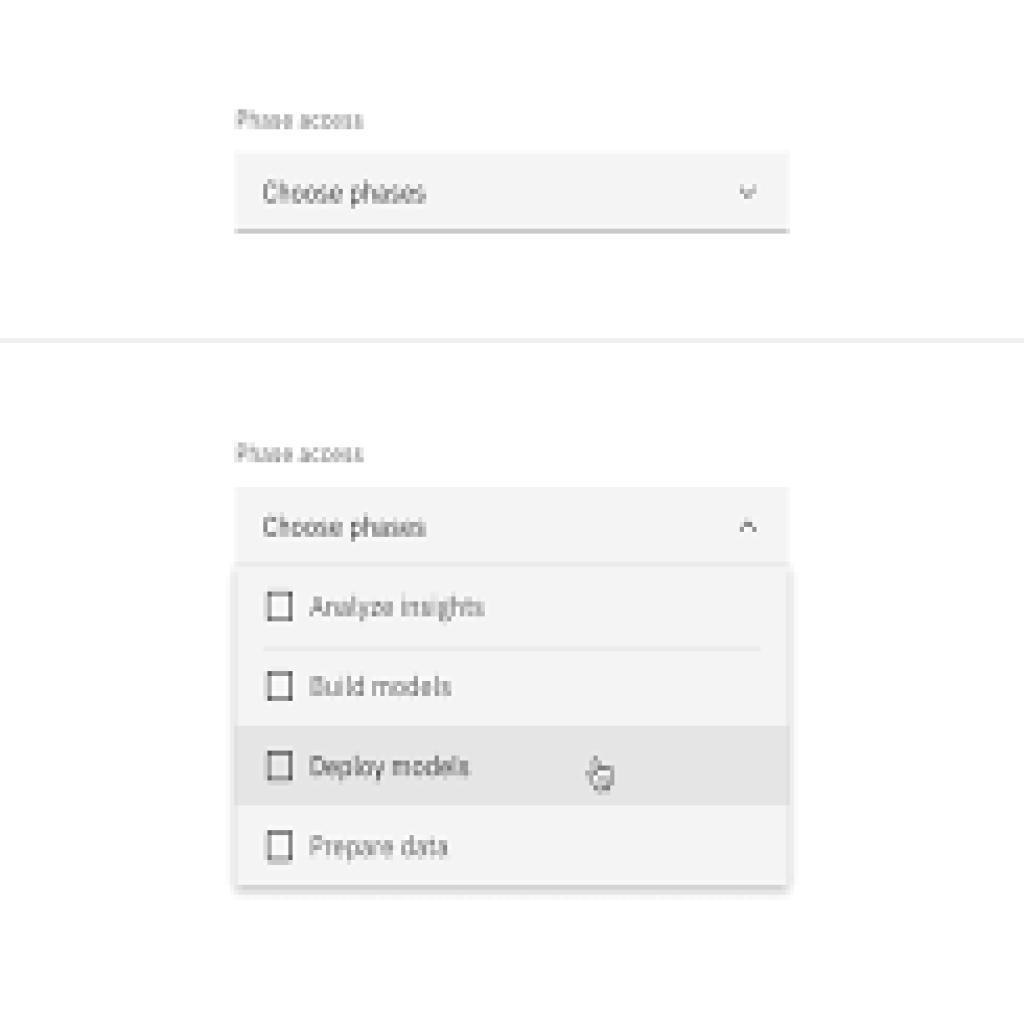checkbox: (266, 750, 293, 782), (267, 670, 293, 701), (267, 830, 292, 862), (266, 591, 291, 620)
dropdown: (234, 152, 789, 230), (237, 487, 780, 562)
label: (303, 824, 454, 865), (309, 591, 491, 623), (303, 750, 475, 778), (311, 673, 459, 703)
